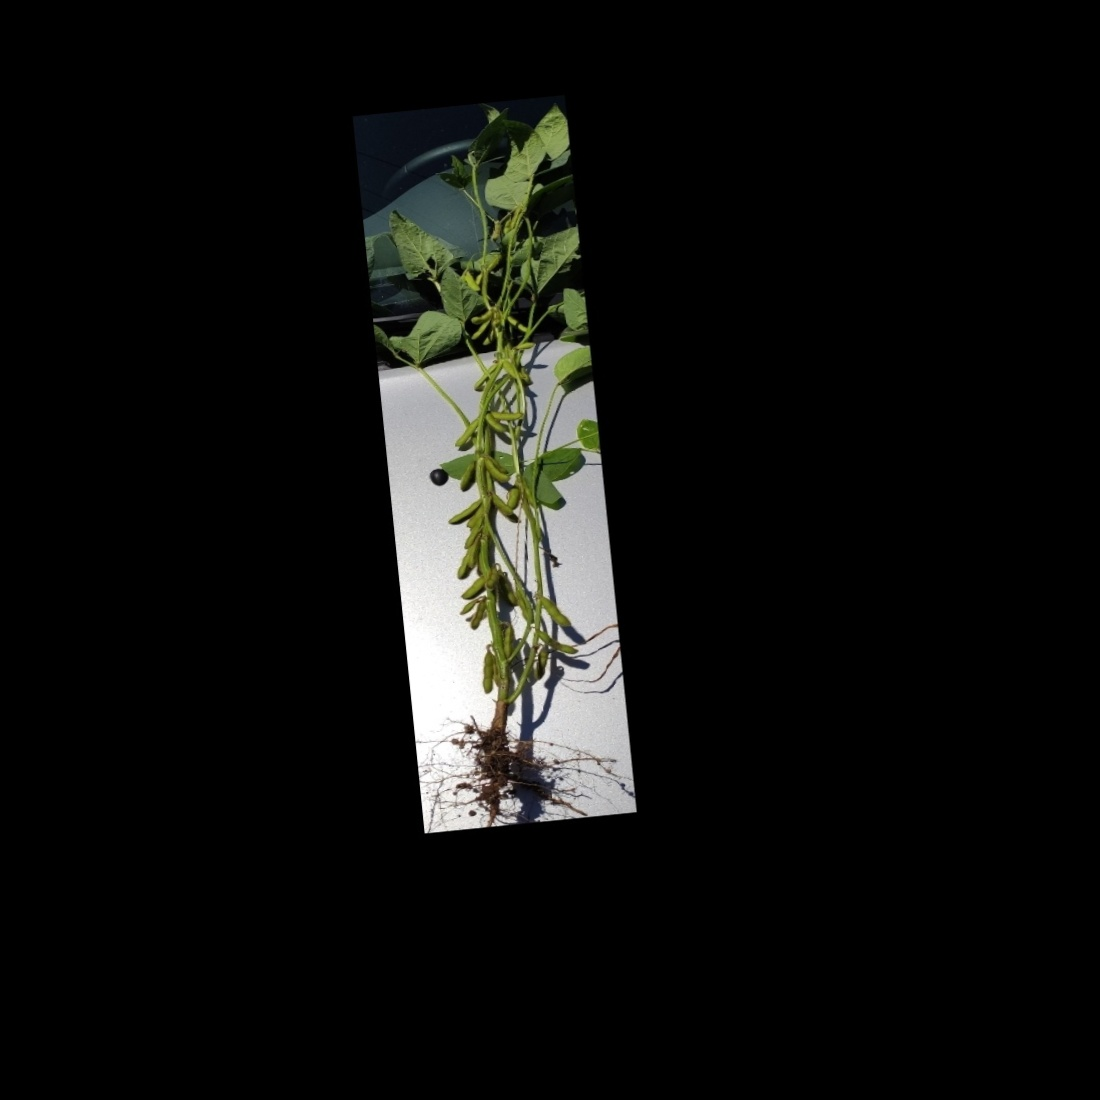pod: (535, 589, 572, 634), (537, 626, 579, 660), (445, 496, 489, 526), (474, 645, 500, 695), (485, 489, 518, 522), (451, 413, 480, 449), (453, 457, 479, 494), (454, 575, 486, 602), (482, 457, 512, 485), (466, 600, 490, 636), (486, 406, 527, 424), (468, 307, 495, 325)
soy: (354, 107, 628, 821)
